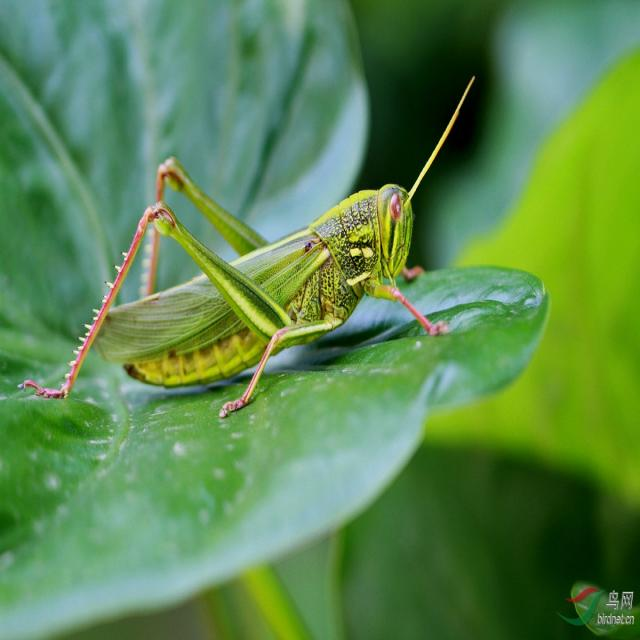ZhaMeng: (40, 69, 487, 414)
